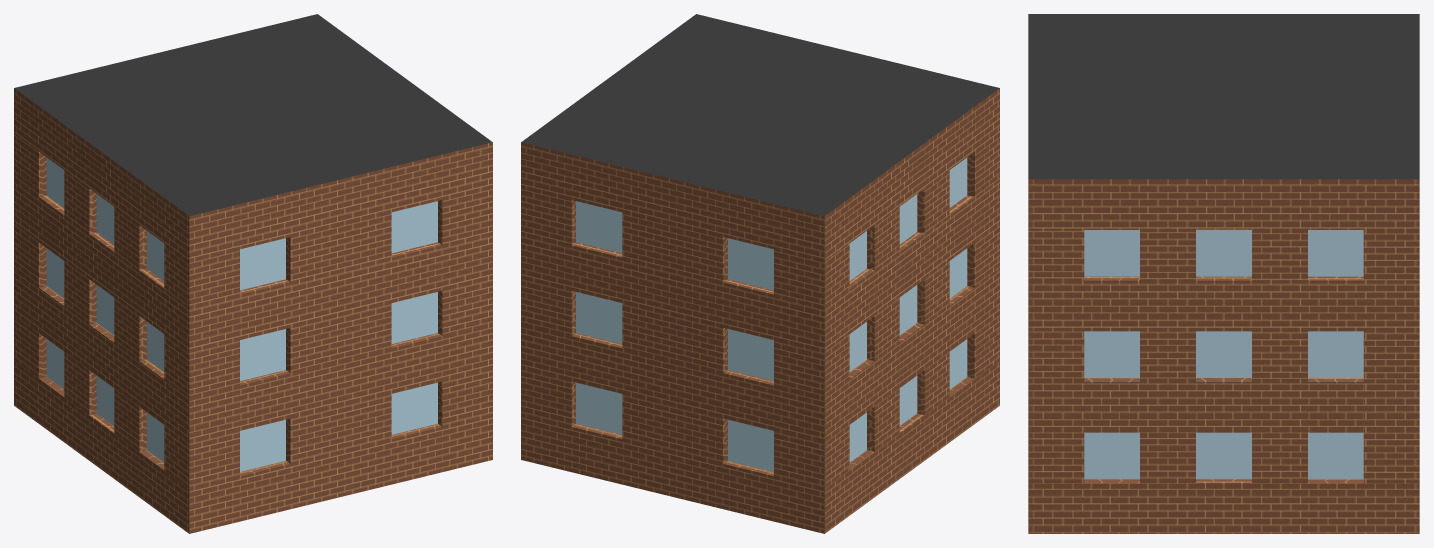
File: mediumMiddle.fbx
3 renders of one model, left to right at view 1: azimuth 30°, elevation 25°; view 2: azimuth 150°, elevation 25°; view 3: azimuth 270°, elevation 25°, orthographic. The views are drawn at different scales.
Parts seen in each view (by area): view 1: pCube1; view 2: pCube1; view 3: pCube1.
Part boxes in pixels (x1=…): pCube1: x1=14, y1=14, x2=492, y2=533; pCube1: x1=521, y1=14, x2=999, y2=533; pCube1: x1=1028, y1=14, x2=1419, y2=533.
Bounding box in the file's own units: 10 × 10 × 10.
1 material, 1 textured.
